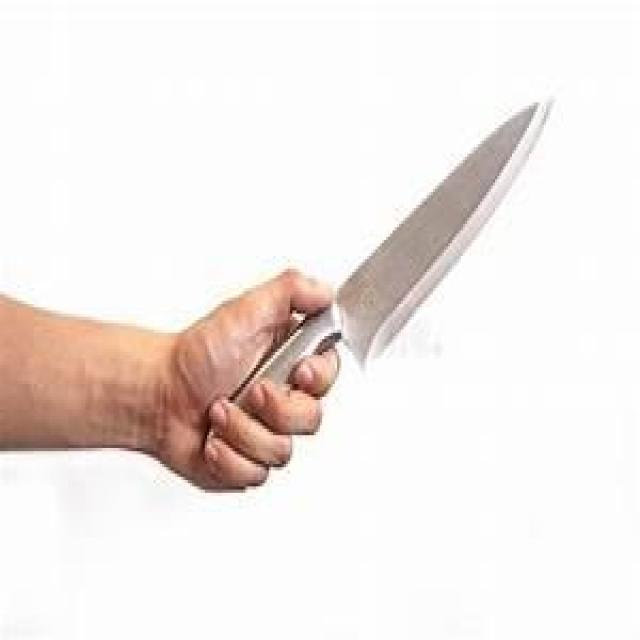Knife: (159, 70, 566, 526)
